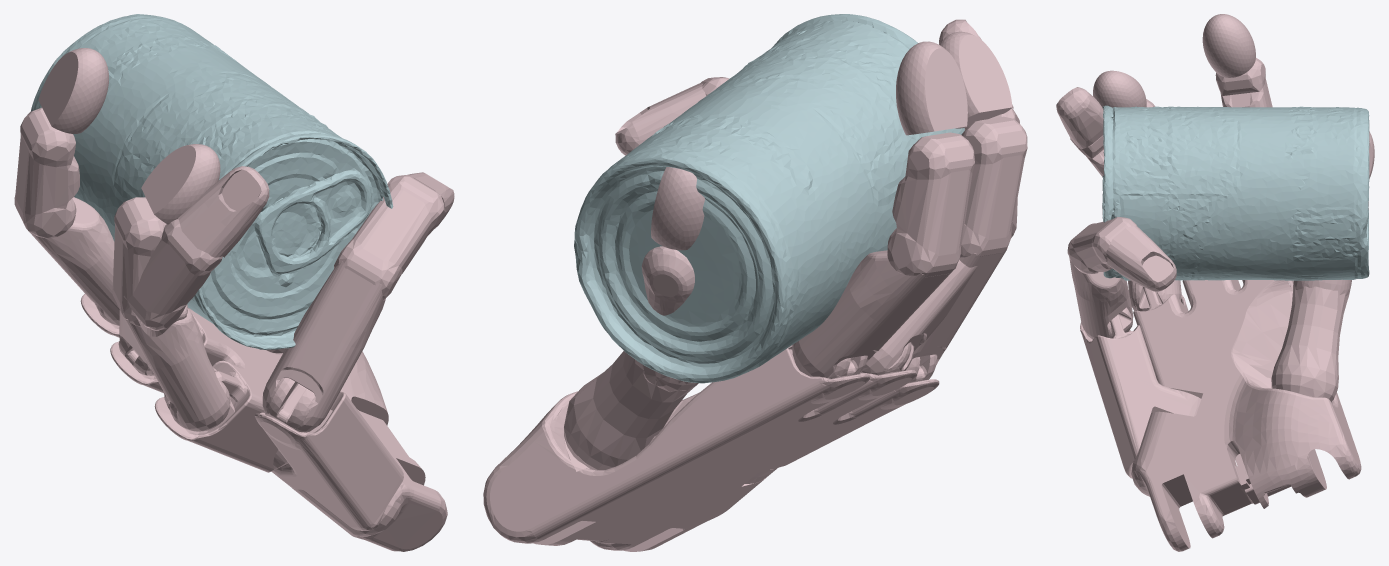
Rendered from grasp_6.glb.
The picture shows the model from 3 angles, left to right: view 1: azimuth 30°, elevation 25°; view 2: azimuth 150°, elevation 25°; view 3: azimuth 270°, elevation 25°; orthographic projection. The views are drawn at different scales.
Parts seen in each view (by area): view 1: world; view 2: world; view 3: world.
Boxes of the visible parts, box(x1,y1,x2,y2) form: world: box(14, 14, 454, 551); world: box(483, 14, 1027, 551); world: box(1056, 14, 1374, 551).
Size of the model in its own units: 0.1277 by 0.178 by 0.1214.
